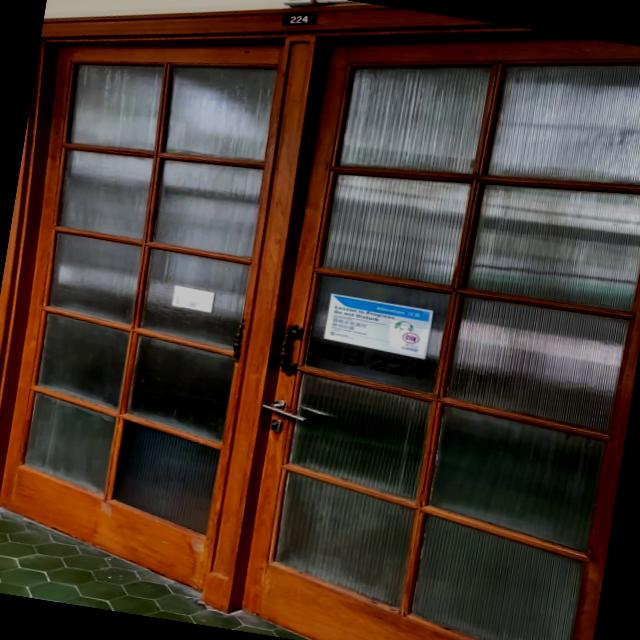room224: (281, 6, 320, 32)
room224Window: (313, 342, 434, 386)
